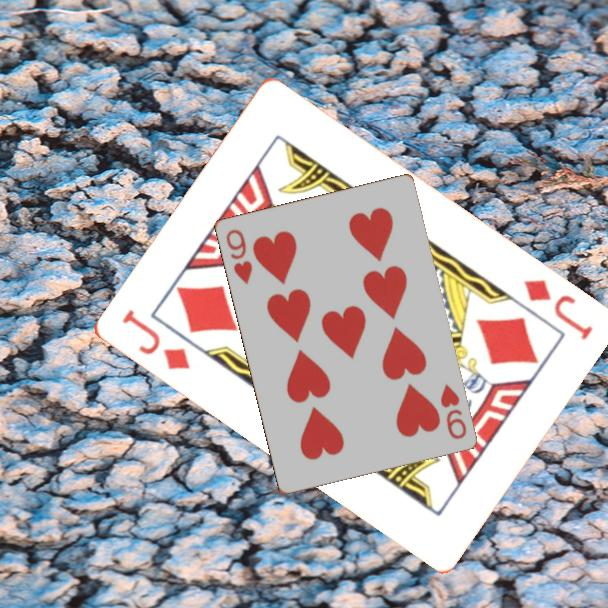d11: (519, 276, 595, 344), (118, 306, 192, 373)
h09: (222, 225, 255, 287), (436, 380, 469, 442)
